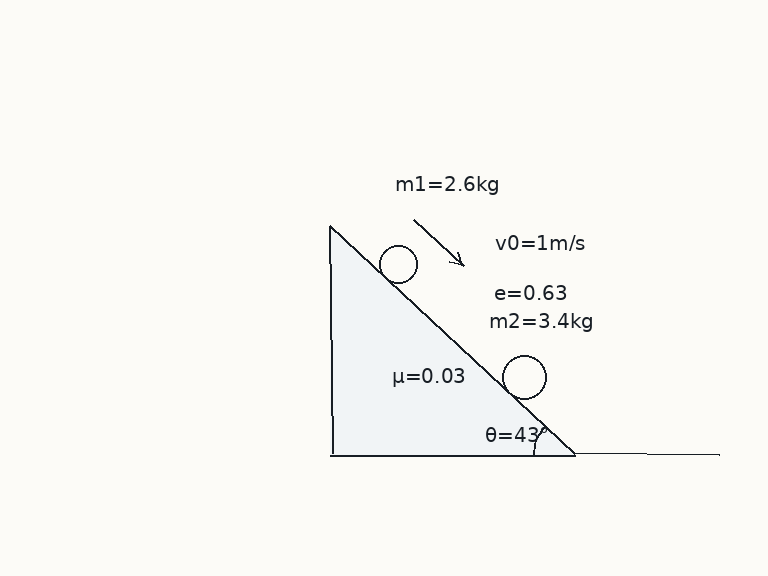ball: (500, 353, 548, 401), (377, 243, 419, 285)
ramp: (328, 225, 576, 456)
